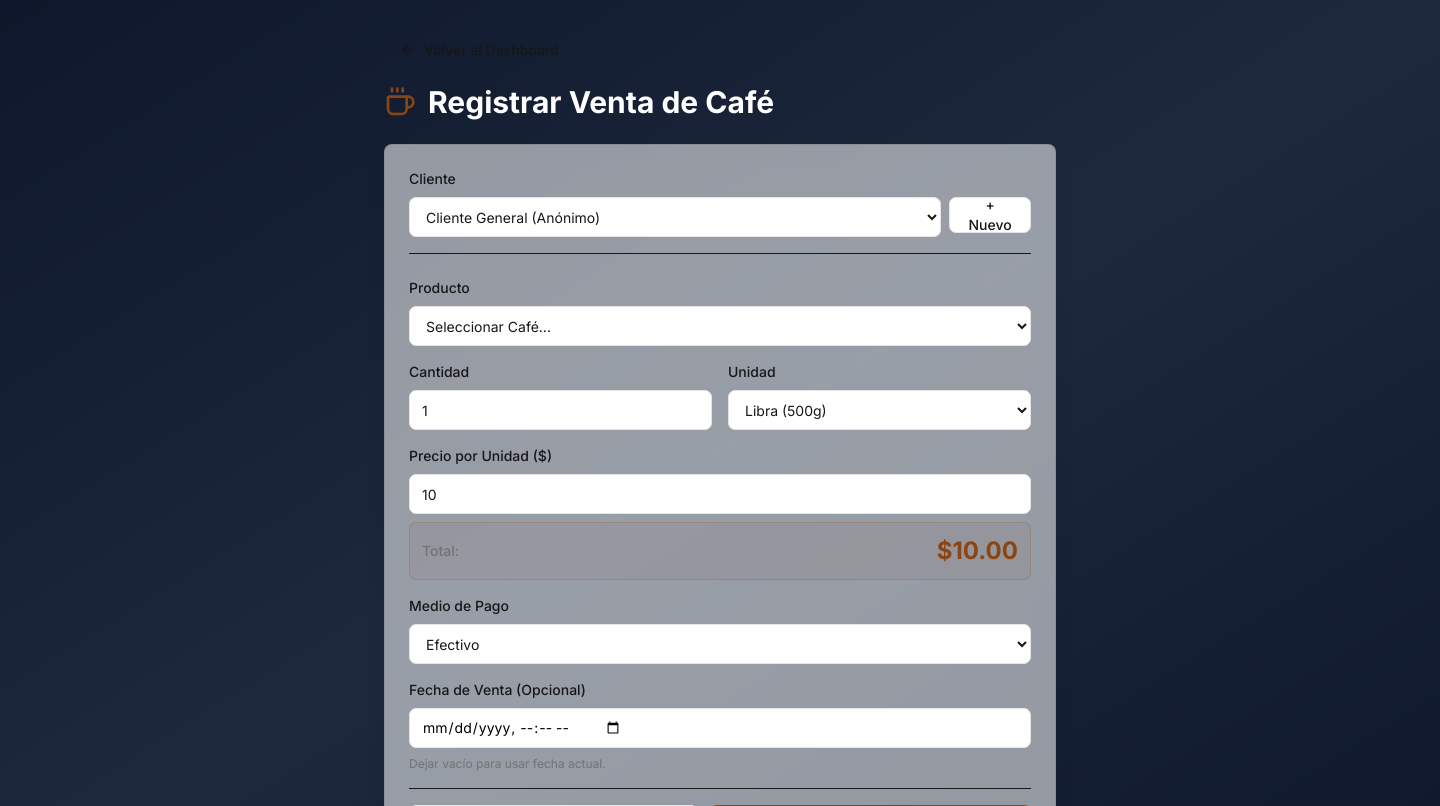
Test case: NuevaVentaPage › Price Section › should update total when quantity changes
Replace the text in the number field labelled "Cantidad" with "3" at (560, 410), box [409,390,712,430]
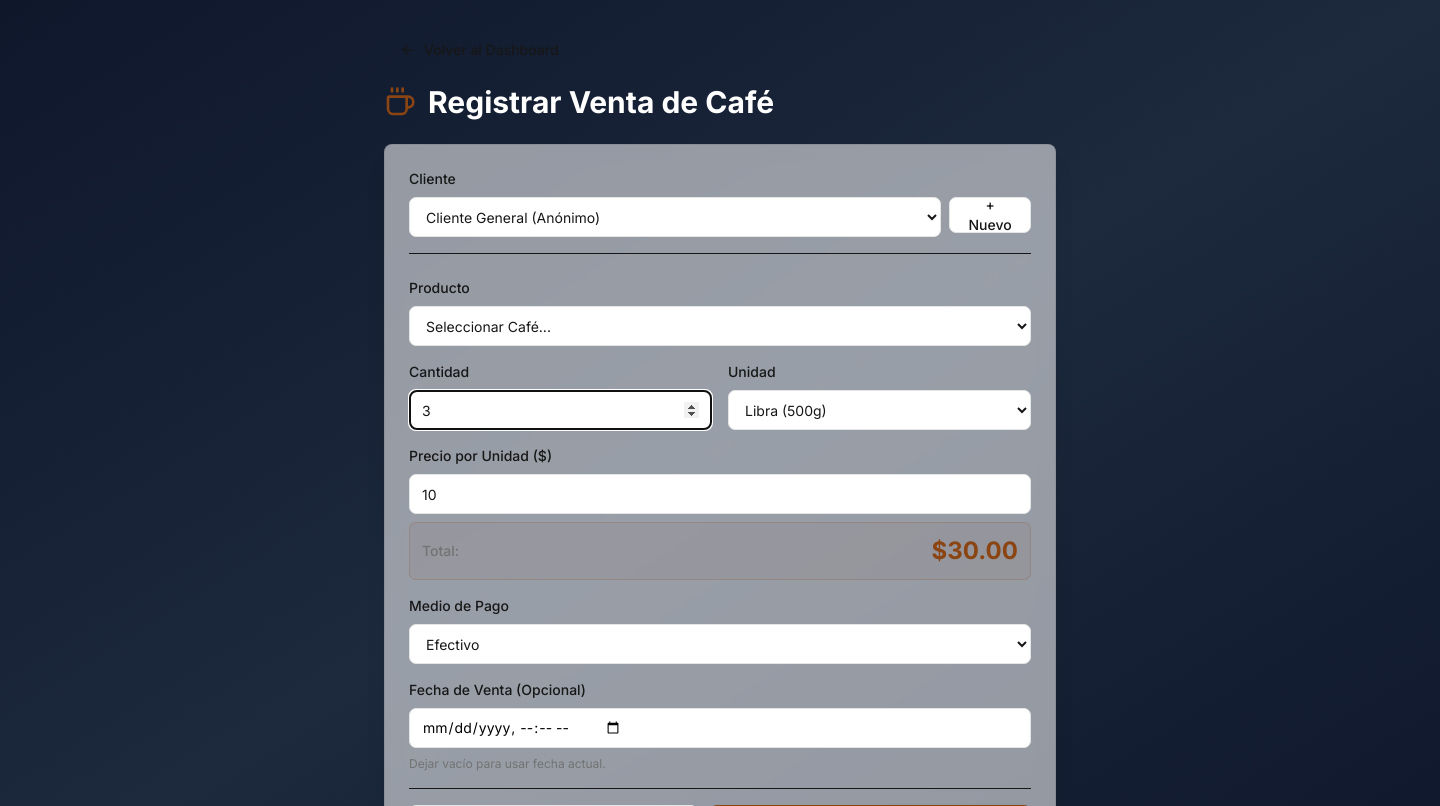
Check: the text "$30.00" is shown, box [932,535,1018,567]
